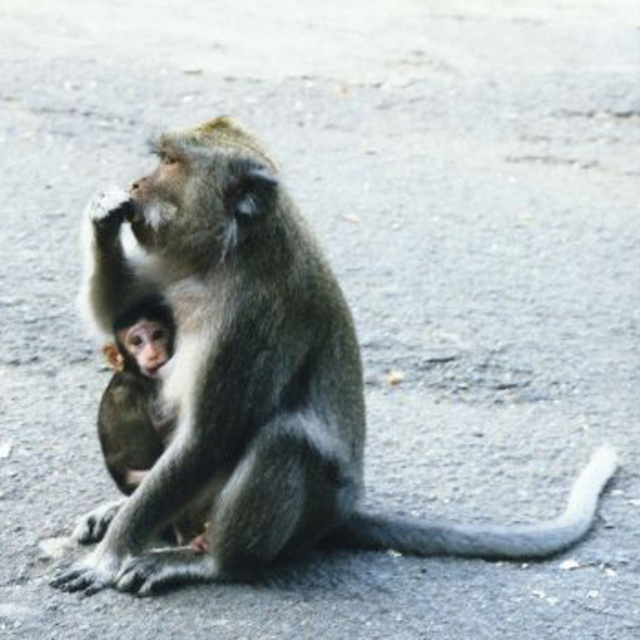Monkey: (47, 114, 622, 599), (97, 299, 209, 550)
